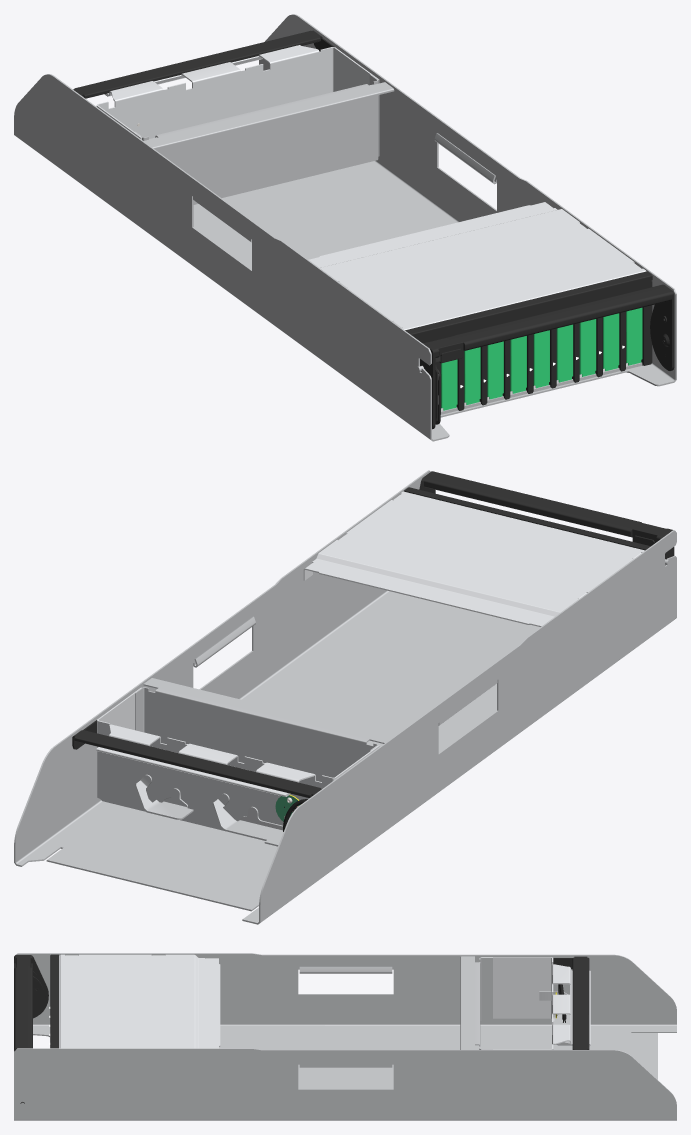
Rendered from cosmo-ext-1.glb.
The picture shows the model from 3 angles, top to bottom: view 1: azimuth 30°, elevation 25°; view 2: azimuth 150°, elevation 25°; view 3: azimuth 270°, elevation 25°; orthographic projection. The views are drawn at different scales.
Parts seen in each view (by area): view 1: Frame_low.004_block.002, Plane.037, Plane.036, Plane.039, Plane.032, Plane.033, Plane.034, Plane.035, Plane.038, Plane.031; view 2: Frame_low.004_block.002; view 3: Frame_low.004_block.002.
Boxes of the visible parts, x1=… form: Frame_low.004_block.002: x1=14, y1=14, x2=676, y2=441; Plane.037: x1=579, y1=319, x2=596, y2=376; Plane.036: x1=556, y1=324, x2=573, y2=382; Plane.039: x1=626, y1=307, x2=642, y2=365; Plane.032: x1=464, y1=347, x2=480, y2=404; Plane.033: x1=487, y1=341, x2=503, y2=399; Plane.034: x1=510, y1=336, x2=526, y2=393; Plane.035: x1=533, y1=330, x2=549, y2=388; Plane.038: x1=603, y1=313, x2=619, y2=371; Plane.031: x1=441, y1=359, x2=457, y2=410; Frame_low.004_block.002: x1=14, y1=470, x2=676, y2=924; Frame_low.004_block.002: x1=14, y1=953, x2=676, y2=1120.
Size of the model in its own units: 0.2659 by 0.0928 by 0.765.
